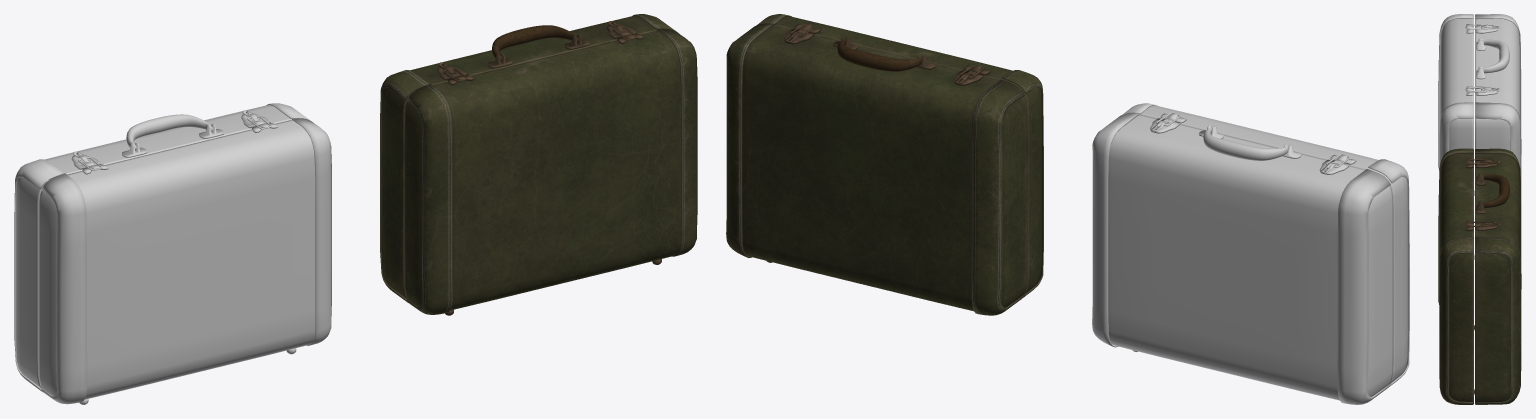
File: vintage_suitcase_2k.fbx
The picture shows the model from 3 angles, left to right: view 1: azimuth 30°, elevation 25°; view 2: azimuth 150°, elevation 25°; view 3: azimuth 270°, elevation 25°; orthographic projection. The views are drawn at different scales.
Parts seen in each view (by area): view 1: vintage_suitcase_02_top, vintage_suitcase_01_top, vintage_suitcase_01_bottom, vintage_suitcase_02_bottom, vintage_suitcase_02_handle, vintage_suitcase_01_handle; view 2: vintage_suitcase_01_bottom, vintage_suitcase_02_bottom, vintage_suitcase_01_top, vintage_suitcase_02_top, vintage_suitcase_01_handle, vintage_suitcase_02_handle; view 3: vintage_suitcase_01_bottom, vintage_suitcase_01_top, vintage_suitcase_02_bottom, vintage_suitcase_02_top, vintage_suitcase_02_handle, vintage_suitcase_01_handle, vintage_suitcase_01_clasp, vintage_suitcase_02_clasp.
Boxes of the visible parts, x1,y1,x2,y2 form: vintage_suitcase_02_top: [38, 118, 331, 404]; vintage_suitcase_01_top: [404, 29, 697, 315]; vintage_suitcase_01_bottom: [380, 14, 677, 302]; vintage_suitcase_02_bottom: [14, 103, 313, 392]; vintage_suitcase_02_handle: [126, 114, 212, 150]; vintage_suitcase_01_handle: [492, 25, 578, 60]; vintage_suitcase_01_bottom: [726, 24, 1027, 315]; vintage_suitcase_02_bottom: [1092, 113, 1393, 404]; vintage_suitcase_01_top: [756, 14, 1043, 297]; vintage_suitcase_02_top: [1122, 103, 1409, 386]; vintage_suitcase_01_handle: [837, 38, 922, 71]; vintage_suitcase_02_handle: [1203, 128, 1288, 160]; vintage_suitcase_01_bottom: [1474, 148, 1521, 404]; vintage_suitcase_01_top: [1438, 148, 1474, 404]; vintage_suitcase_02_bottom: [1474, 14, 1521, 259]; vintage_suitcase_02_top: [1438, 14, 1474, 258]; vintage_suitcase_02_handle: [1482, 39, 1509, 73]; vintage_suitcase_01_handle: [1482, 174, 1509, 207]; vintage_suitcase_01_clasp: [1465, 159, 1487, 226]; vintage_suitcase_02_clasp: [1465, 24, 1487, 92].
Size of the model in its own units: 161 by 56.79 by 23.92.
